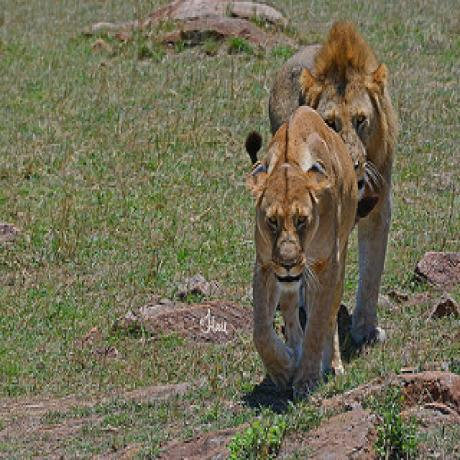Lion: (236, 102, 356, 394), (332, 17, 392, 341)
